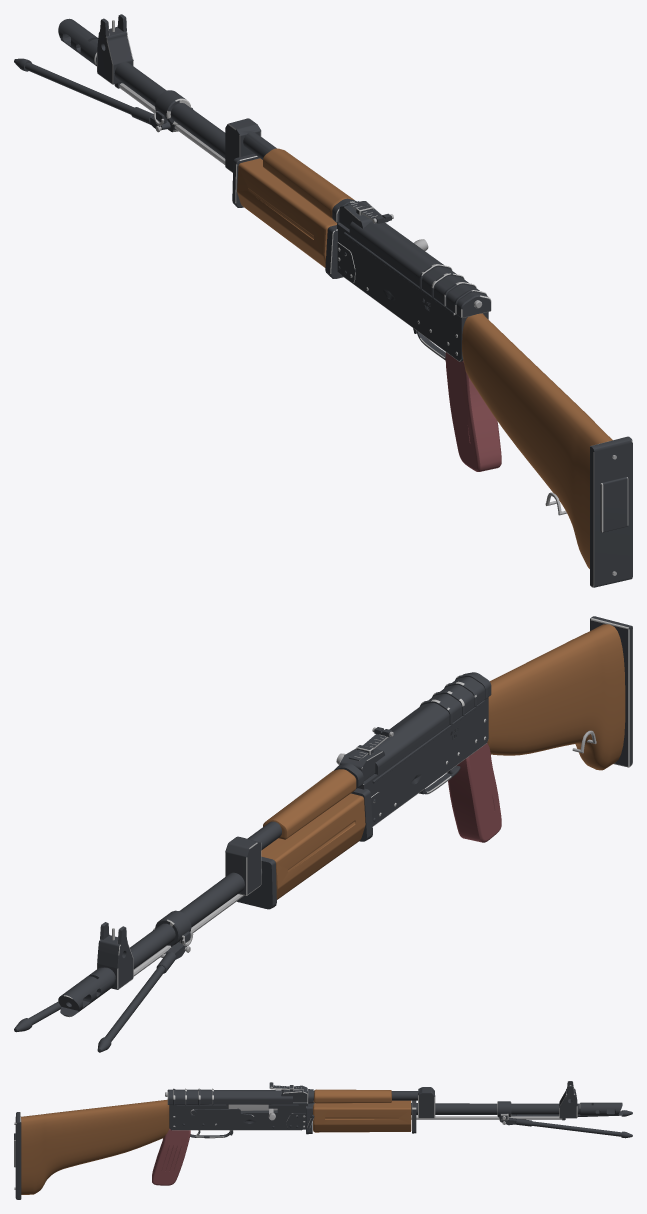
The model's file is rpk74.glb.
3 renders of one model, top to bottom at view 1: azimuth 30°, elevation 25°; view 2: azimuth 150°, elevation 25°; view 3: azimuth 270°, elevation 25°, orthographic. The views are drawn at different scales.
Visible parts, largest first — view 1: static, static_butt, bipod; view 2: static, static_butt, bipod; view 3: static, static_butt, bipod, selector, bolt_carrier.
Part boxes in pixels (box(x1,y1,x2,y2)): static: box(58, 14, 501, 471); static_butt: box(462, 313, 632, 587); bipod: box(14, 58, 170, 129); static: box(58, 672, 501, 1017); static_butt: box(487, 616, 632, 770); bipod: box(14, 942, 187, 1052); static: box(152, 1081, 622, 1185); static_butt: box(14, 1099, 169, 1199); bipod: box(502, 1110, 632, 1138); selector: box(190, 1108, 253, 1118); bolt_carrier: box(228, 1104, 277, 1120).
Bounding box in the file's own units: 0.1065 × 0.228 × 1.15.
